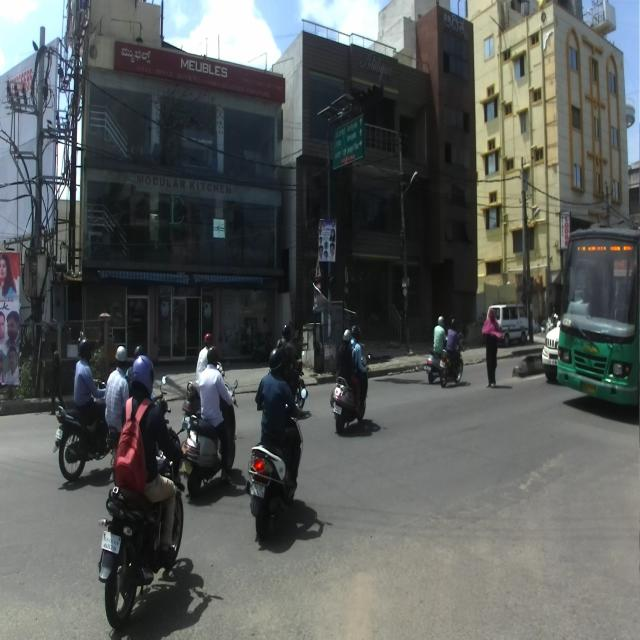motorcycle: (96, 410, 192, 630)
scooter: (245, 388, 307, 541), (179, 376, 239, 502), (330, 353, 370, 436)
